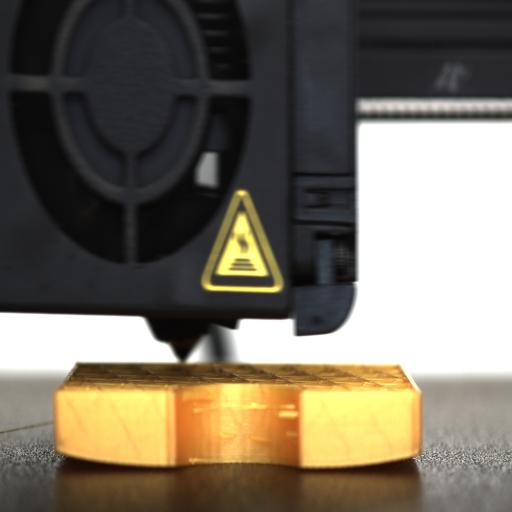warp: (297, 440, 426, 472)
